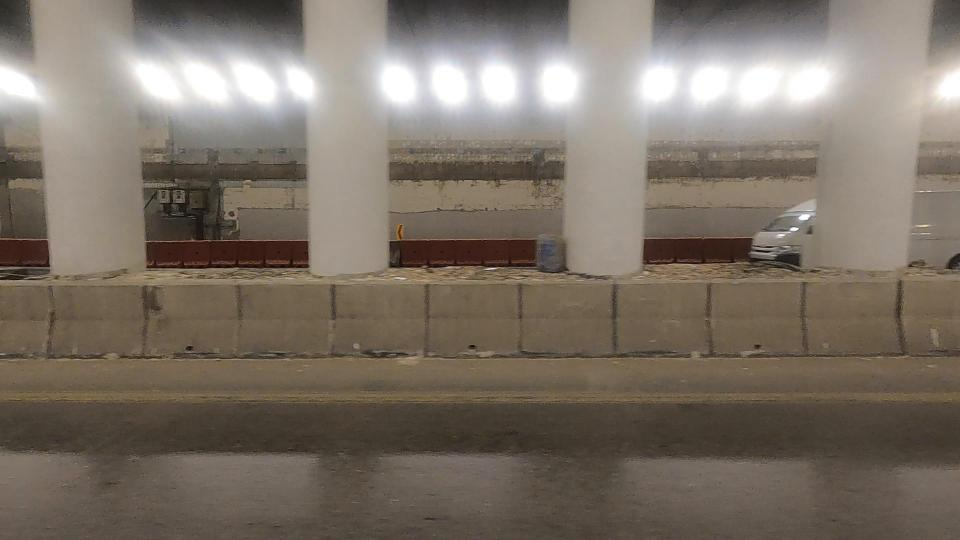CONSTRUCTION_ROAD: (354, 205, 593, 296), (102, 203, 330, 292), (597, 200, 800, 293)
